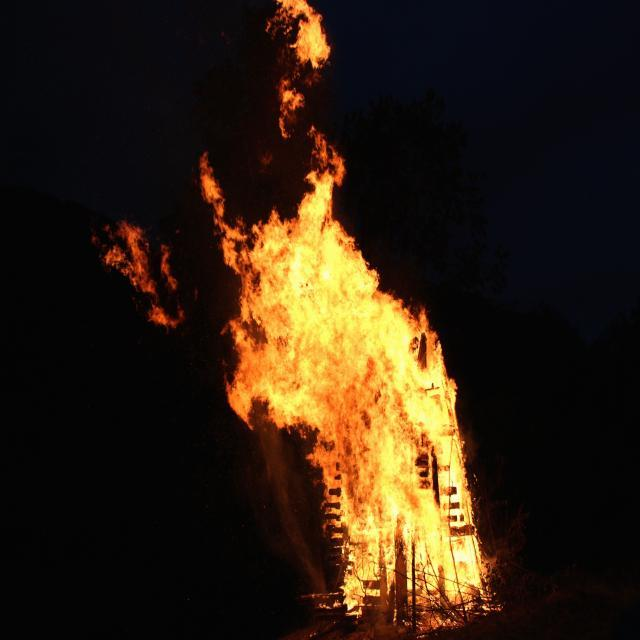Fire: (196, 0, 504, 640), (94, 214, 185, 328)
